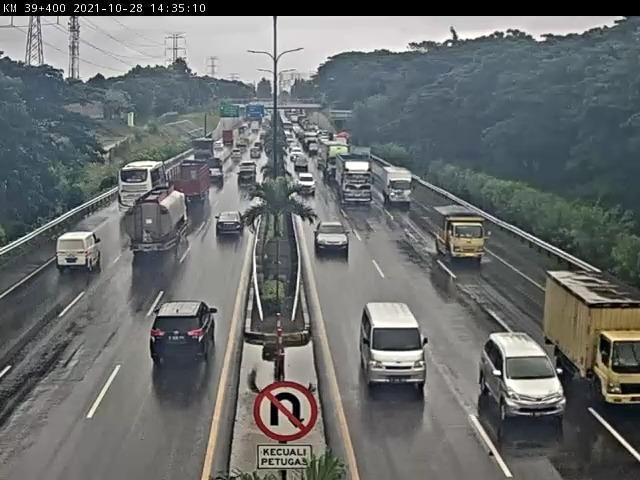bus: (111, 152, 173, 218)
car: (476, 316, 579, 432), (351, 294, 439, 398), (143, 287, 231, 384), (45, 225, 107, 277), (311, 215, 353, 260), (210, 205, 249, 247), (291, 168, 324, 195), (231, 167, 260, 193)
truck: (541, 257, 640, 401), (121, 182, 194, 277), (428, 201, 490, 267), (165, 156, 222, 216), (330, 157, 386, 210), (377, 166, 422, 213)
